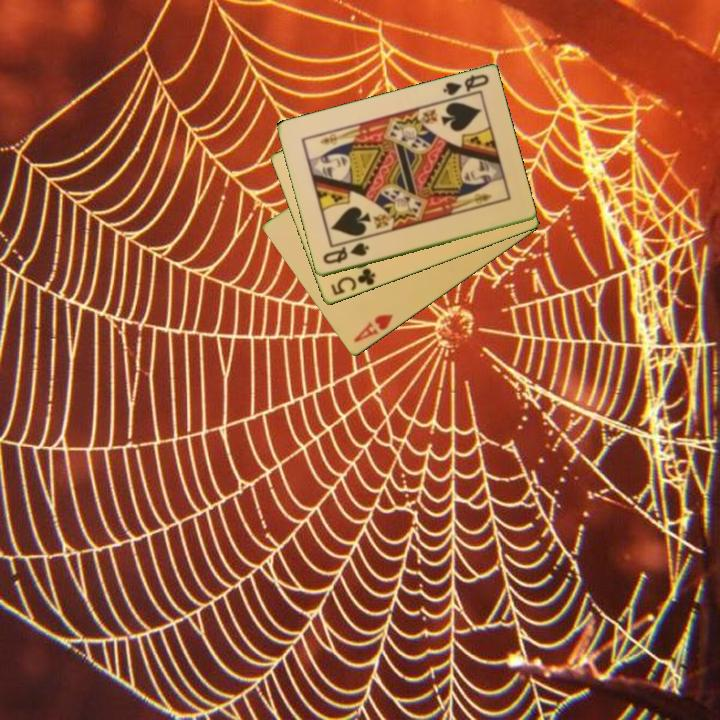5c: (327, 265, 378, 299)
Ah: (350, 311, 396, 346)
Qs: (319, 239, 372, 267), (439, 71, 492, 99)
